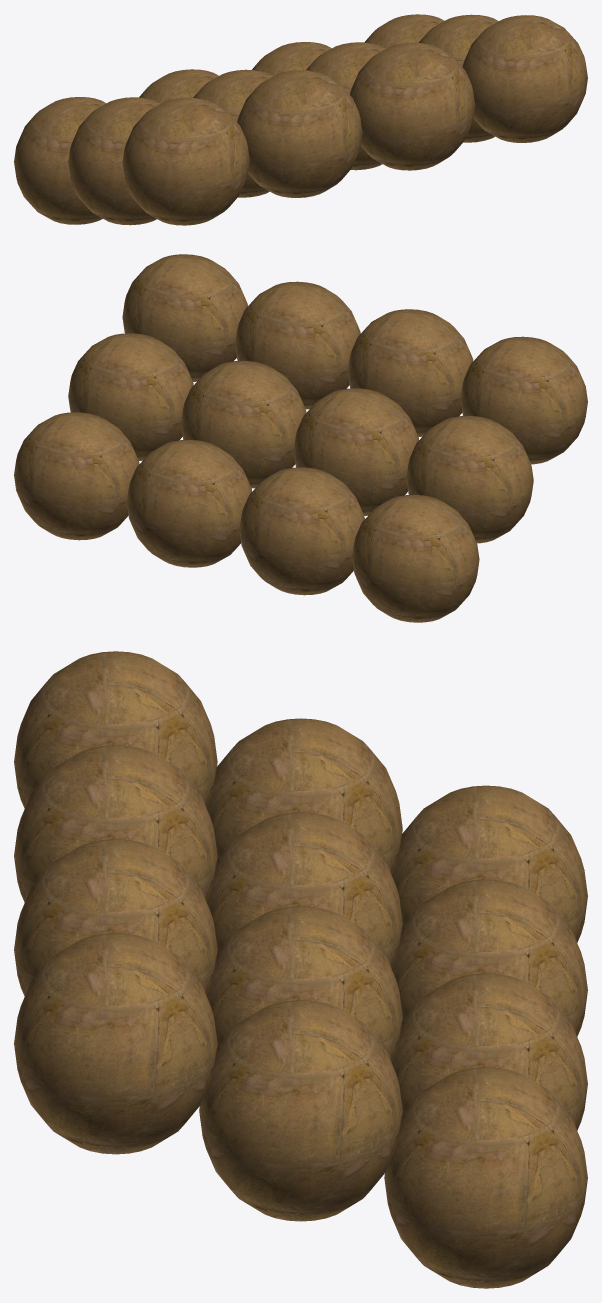
The model's file is pedras_memoria.glb.
The picture shows the model from 3 angles, top to bottom: view 1: azimuth 30°, elevation 25°; view 2: azimuth 150°, elevation 25°; view 3: azimuth 270°, elevation 25°; orthographic projection. The views are drawn at different scales.
Parts seen in each view (by area): view 1: Pedra memorial.008, Pedra memorial.010, Pedra memorial.011, Pedra memorial.009, Pedra memorial, Pedra memorial.004, Pedra memorial.006, Pedra memorial.007, Pedra memorial.005, Pedra memorial.001, Pedra memorial.002, Pedra memorial.003; view 2: Pedra memorial, Pedra memorial.002, Pedra memorial.003, Pedra memorial.001, Pedra memorial.008, Pedra memorial.004, Pedra memorial.007, Pedra memorial.005, Pedra memorial.011, Pedra memorial.009, Pedra memorial.006, Pedra memorial.010; view 3: Pedra memorial.011, Pedra memorial.003, Pedra memorial.007, Pedra memorial.010, Pedra memorial.008, Pedra memorial.009, Pedra memorial, Pedra memorial.002, Pedra memorial.001, Pedra memorial.005, Pedra memorial.006, Pedra memorial.004.
Boxes of the visible parts, bbox=[...] form: Pedra memorial.008: bbox=[122, 97, 249, 225]; Pedra memorial.010: bbox=[349, 42, 475, 170]; Pedra memorial.011: bbox=[462, 15, 587, 142]; Pedra memorial.009: bbox=[237, 70, 362, 197]; Pedra memorial: bbox=[14, 97, 106, 224]; Pedra memorial.004: bbox=[68, 97, 160, 225]; Pedra memorial.006: bbox=[306, 42, 385, 170]; Pedra memorial.007: bbox=[419, 14, 498, 142]; Pedra memorial.005: bbox=[193, 69, 272, 197]; Pedra memorial.001: bbox=[139, 69, 218, 103]; Pedra memorial.002: bbox=[252, 42, 331, 75]; Pedra memorial.003: bbox=[364, 14, 444, 48]; Pedra memorial: bbox=[352, 494, 479, 622]; Pedra memorial.002: bbox=[126, 439, 252, 567]; Pedra memorial.003: bbox=[14, 412, 139, 540]; Pedra memorial.001: bbox=[239, 467, 364, 595]; Pedra memorial.008: bbox=[460, 336, 587, 464]; Pedra memorial.004: bbox=[406, 415, 533, 543]; Pedra memorial.007: bbox=[68, 333, 193, 460]; Pedra memorial.005: bbox=[293, 388, 418, 515]; Pedra memorial.011: bbox=[122, 254, 247, 381]; Pedra memorial.009: bbox=[348, 309, 473, 436]; Pedra memorial.006: bbox=[181, 360, 306, 488]; Pedra memorial.010: bbox=[235, 281, 360, 409]; Pedra memorial.011: bbox=[14, 933, 217, 1154]; Pedra memorial.003: bbox=[384, 1067, 587, 1288]; Pedra memorial.007: bbox=[199, 1000, 402, 1221]; Pedra memorial.010: bbox=[14, 839, 217, 996]; Pedra memorial.008: bbox=[14, 651, 217, 808]; Pedra memorial.009: bbox=[14, 745, 217, 902]; Pedra memorial: bbox=[392, 785, 587, 942]; Pedra memorial.002: bbox=[392, 973, 587, 1130]; Pedra memorial.001: bbox=[392, 879, 587, 1036]; Pedra memorial.005: bbox=[207, 812, 402, 969]; Pedra memorial.006: bbox=[207, 906, 402, 1063]; Pedra memorial.004: bbox=[207, 718, 402, 875].
Size of the model in its own units: 2.4 by 1 by 1.55.
Materials: 1 (1 with a texture image).
